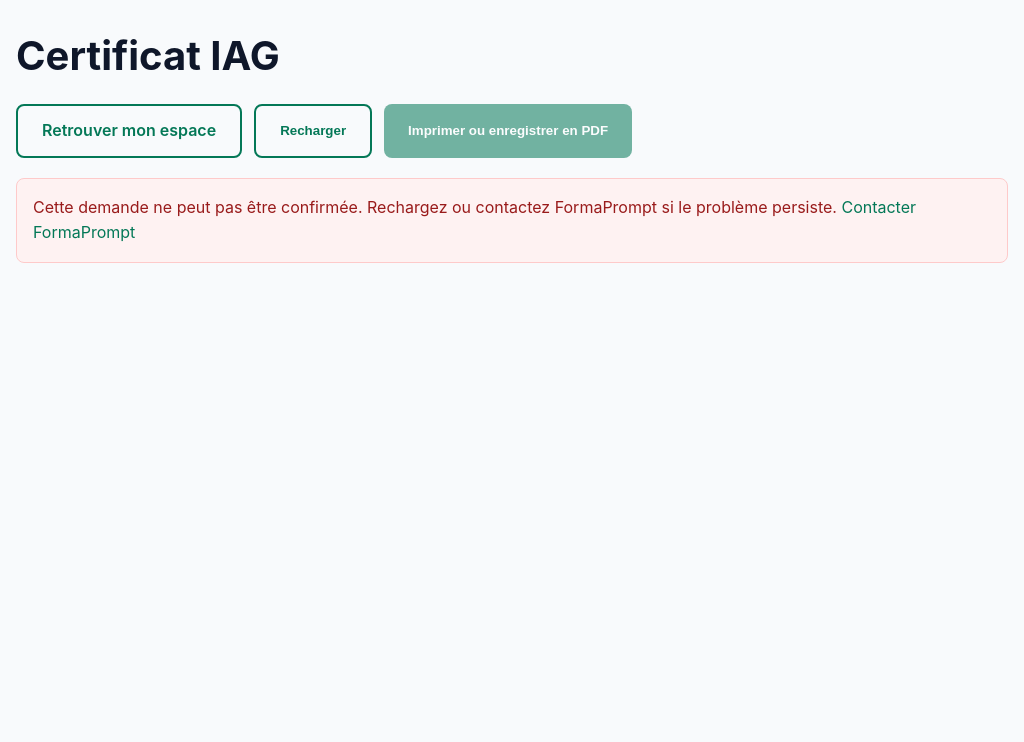
Test: IAG private certificate rendering and session isolation › refusal displays contact and retry without a printable document
The image size is (1024, 742).
Check: the message is shown, box [16, 178, 1008, 263]
Check: the button "Imprimer ou enregistrer en PDF" is disabled, box [384, 104, 632, 158]
Click the button "Recharger".
click(313, 131)  # box [254, 104, 372, 158]
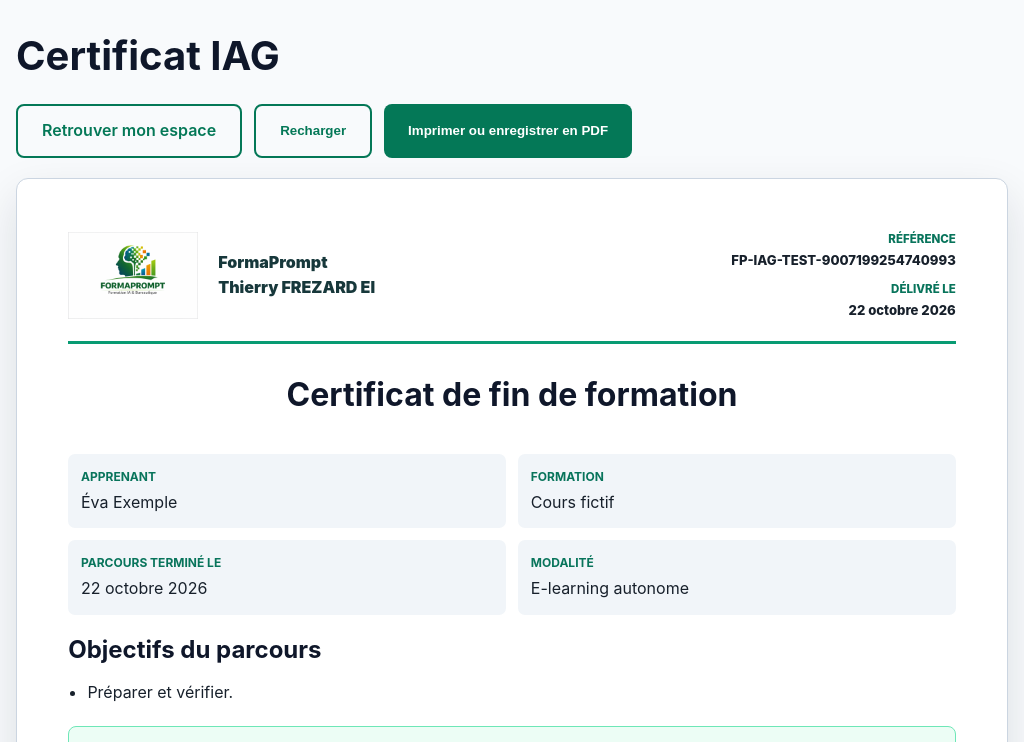
Check: the text "Éva Exemple" is shown, box [81, 492, 177, 512]
